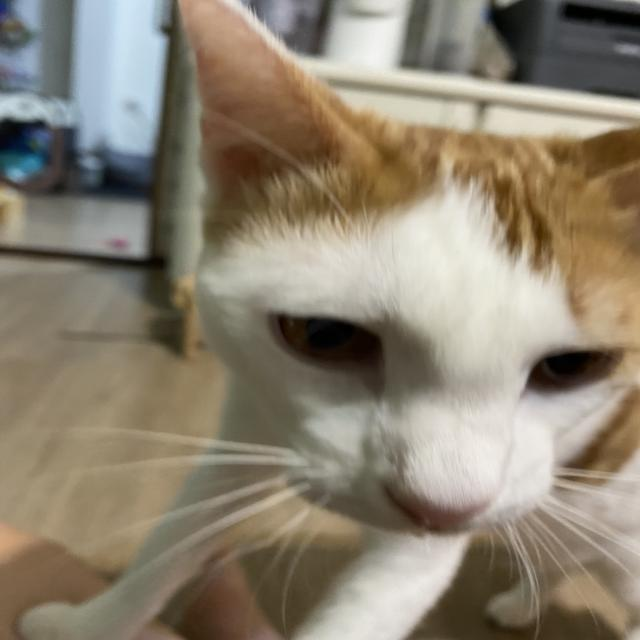cat1: (118, 1, 640, 639)
